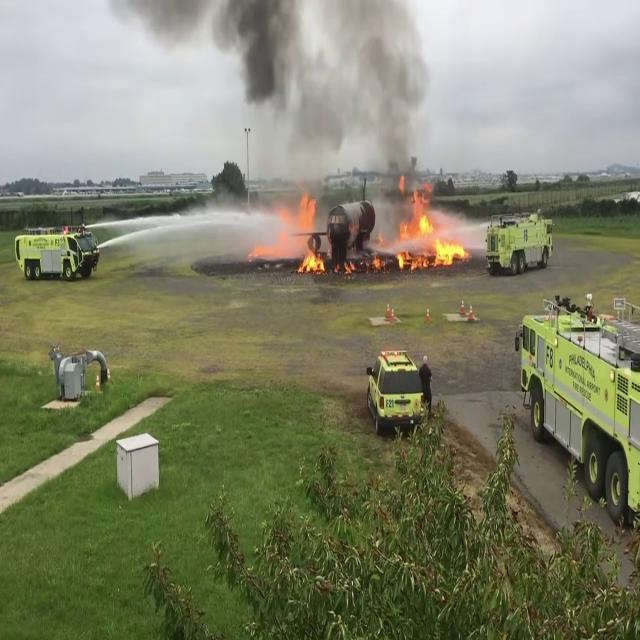Fire: (394, 193, 471, 270), (298, 241, 328, 275)
Smoke: (199, 0, 437, 204)
